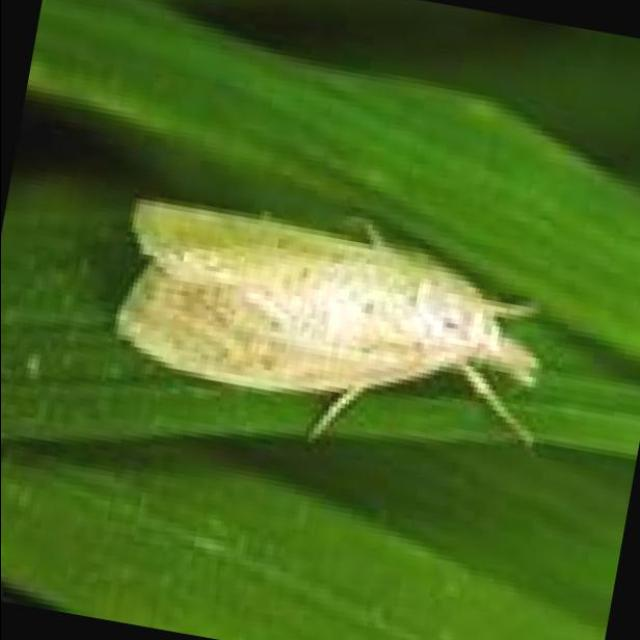stem borer: (116, 201, 536, 446)
